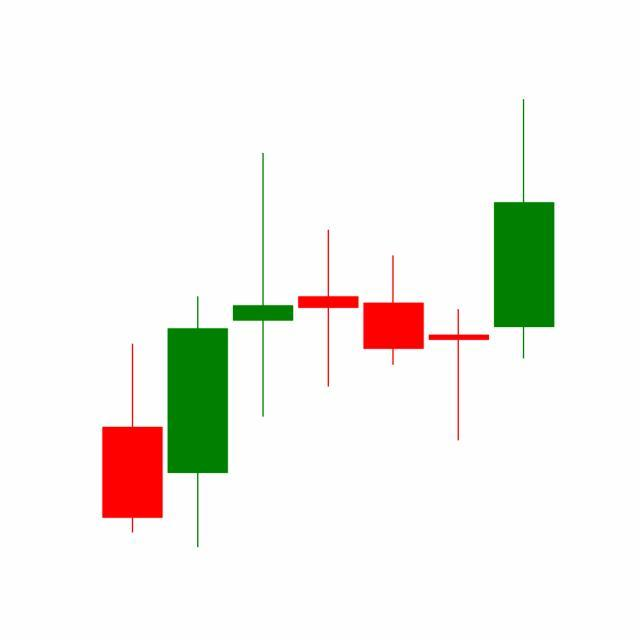Hikkake Pattern: (165, 148, 492, 548)
